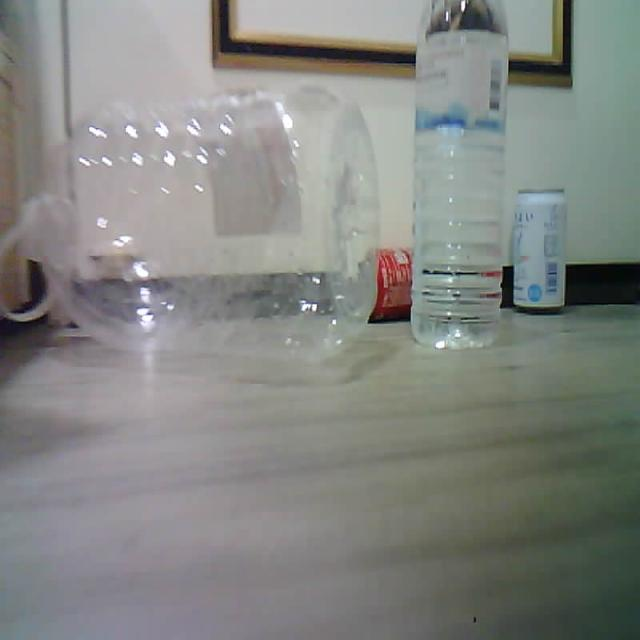bottle: (14, 87, 379, 364), (412, 0, 508, 348)
can: (512, 190, 566, 310)
